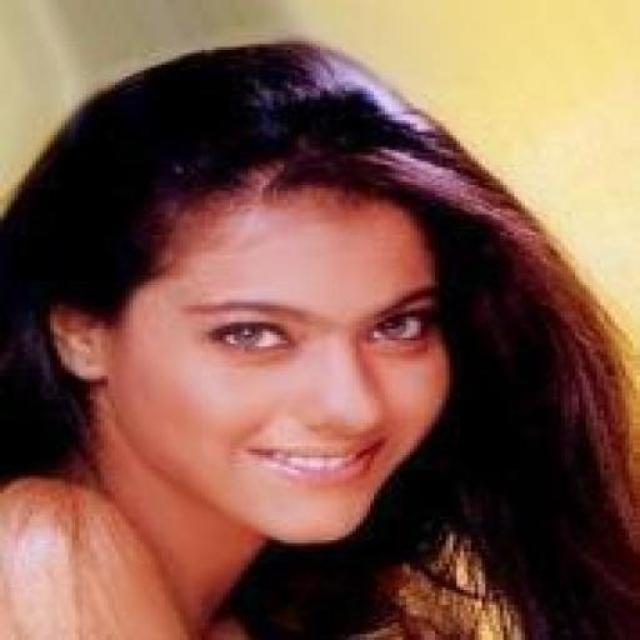bareface: (138, 145, 428, 560)
